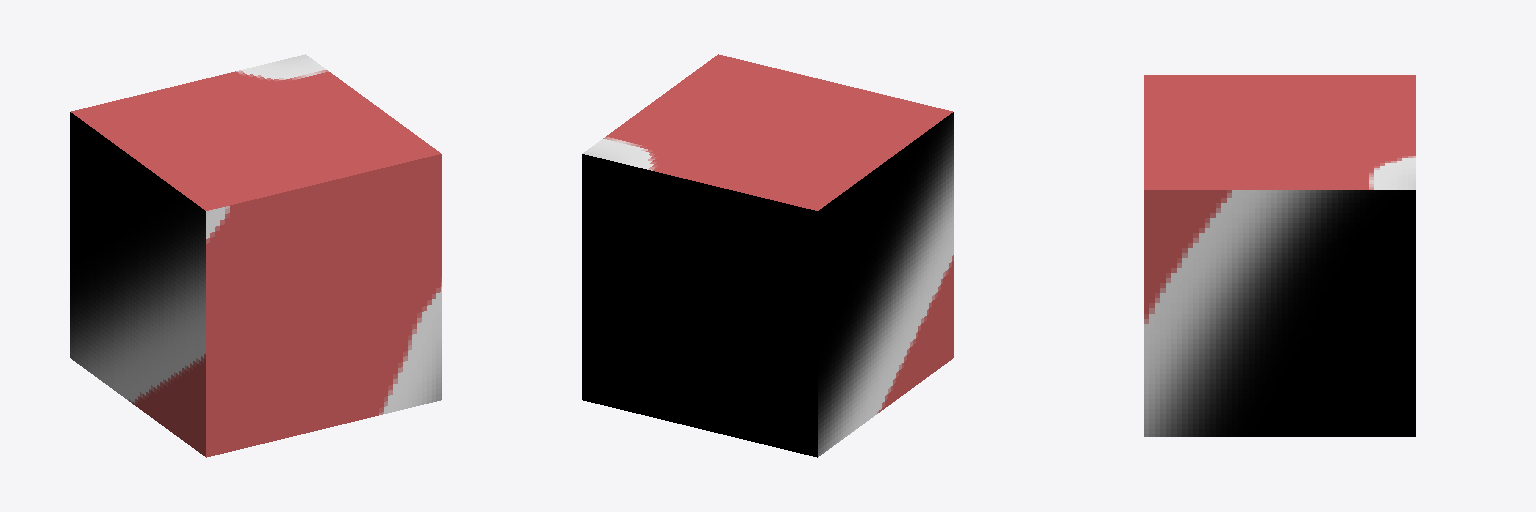
The picture shows the model from 3 angles: view 1: azimuth 30°, elevation 25°; view 2: azimuth 150°, elevation 25°; view 3: azimuth 270°, elevation 25°; orthographic projection.
Parts seen in each view (by area): view 1: 左足; view 2: 左足; view 3: 左足.
Boxes of the visible parts, x1,y1,x2,y2 form: 左足: [70, 54, 441, 457]; 左足: [582, 54, 953, 457]; 左足: [1144, 75, 1415, 436].
Bounding box in the file's own units: 3 × 3 × 3.
1 materials, 1 textured.